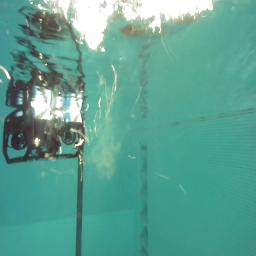front: (3, 106, 84, 164)
